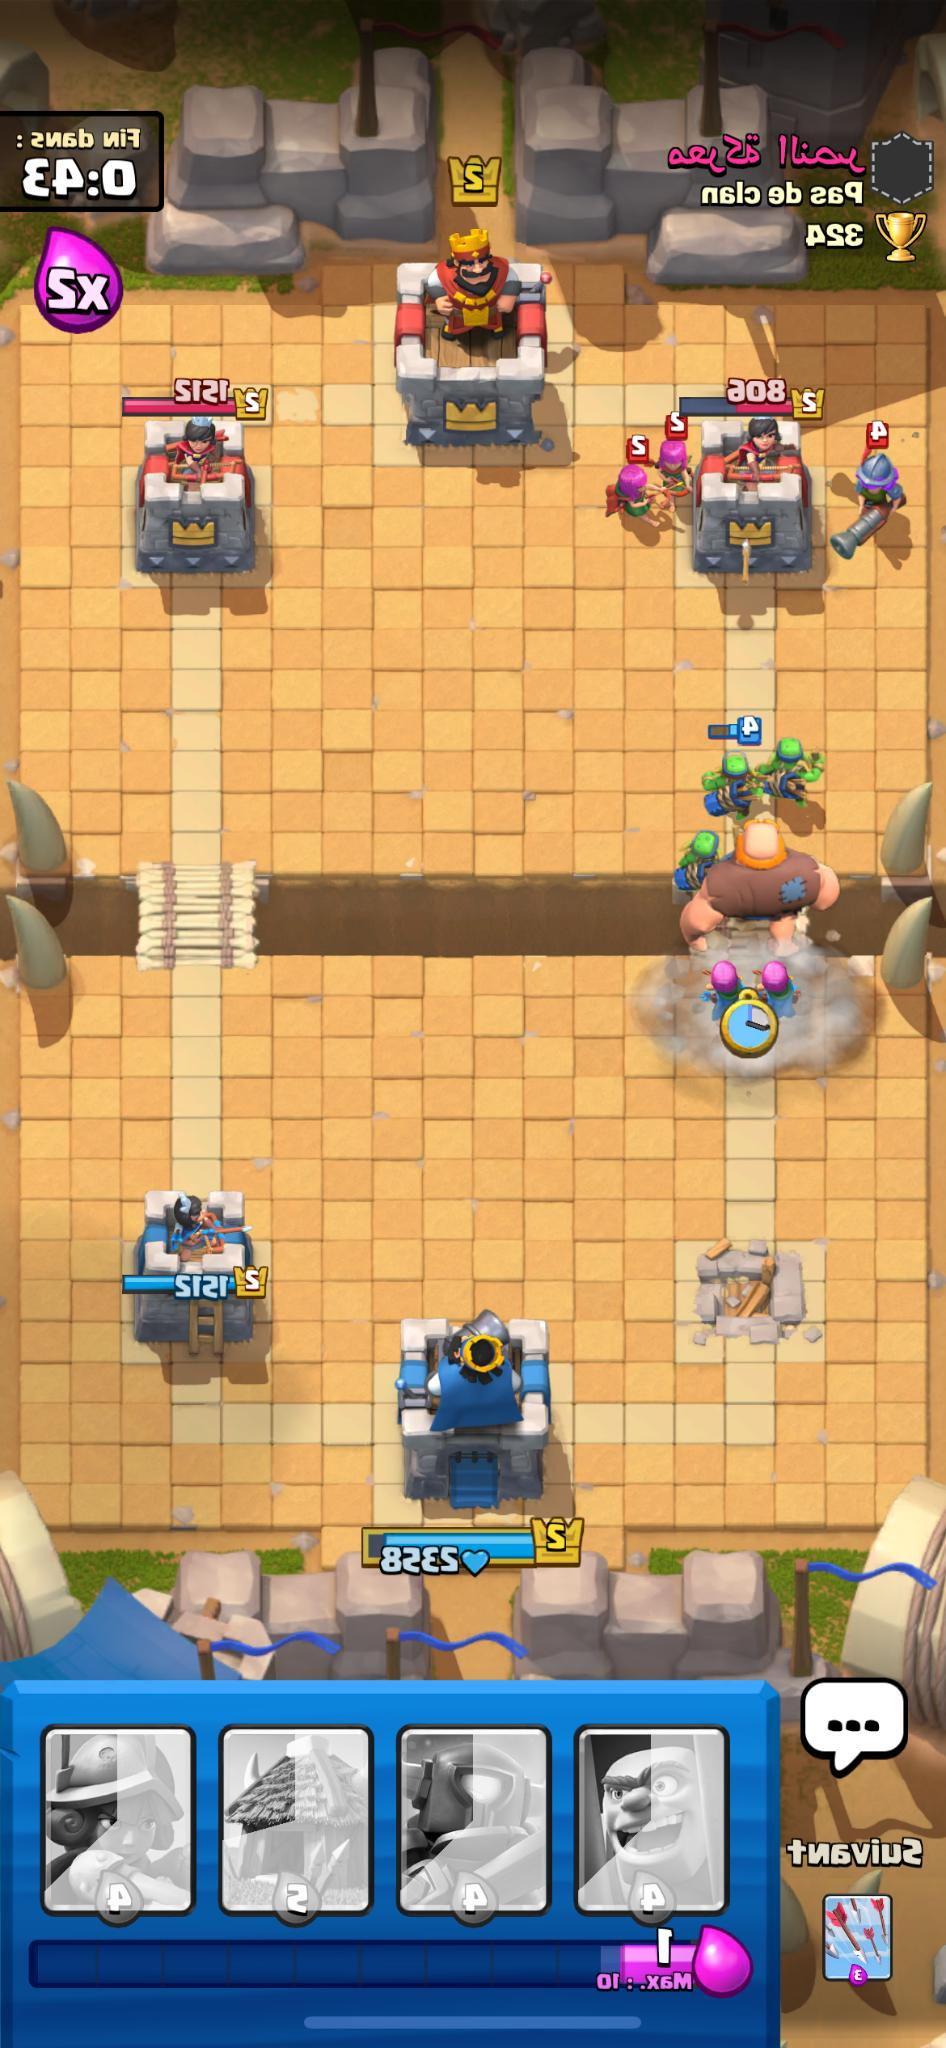archere: (585, 453, 672, 545), (757, 951, 813, 1051), (645, 411, 696, 509)
geant: (656, 825, 852, 976)
gobelin_lances: (661, 822, 734, 913), (750, 737, 832, 818), (690, 748, 772, 828)
mousquetaire: (806, 408, 932, 560)
